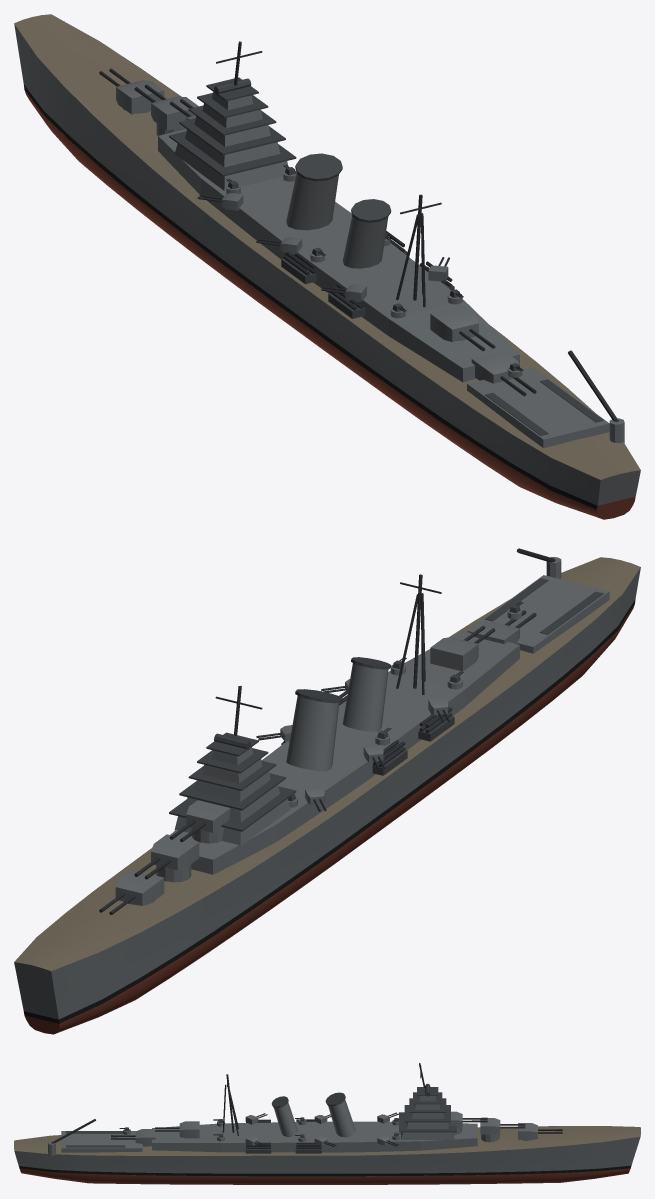
Rendered from cruiser_ijn.glb.
3 views of the same model, one above another, from view 1: azimuth 30°, elevation 25°; view 2: azimuth 150°, elevation 25°; view 3: azimuth 270°, elevation 25° (orthographic). The views are drawn at different scales.
Visible parts, largest first — view 1: cruiser_ijn; view 2: cruiser_ijn; view 3: cruiser_ijn.
Boxes of the visible parts, <box> form: cruiser_ijn: <box>14,14,640,519</box>; cruiser_ijn: <box>14,548,640,1034</box>; cruiser_ijn: <box>14,1063,640,1184</box>.
Bounding box in the file's own units: 25.32 × 40.75 × 200.
